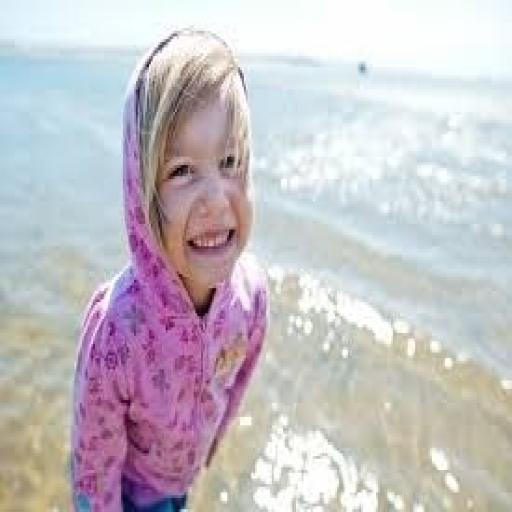laughing: (63, 20, 281, 506)
